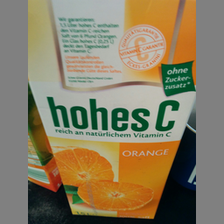juice: (28, 1, 197, 223)
